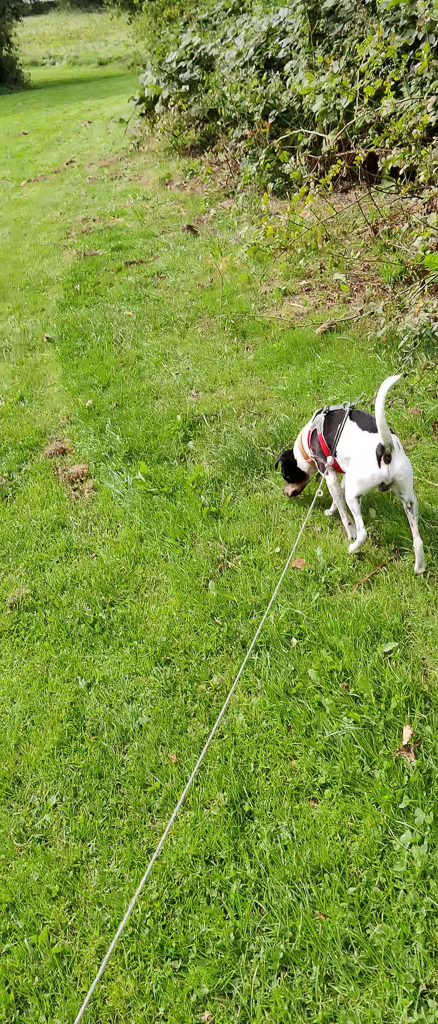Dog: (268, 371, 434, 578)
